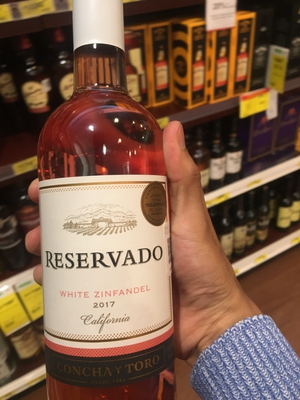reservado white zinfandel: (36, 4, 185, 399)
